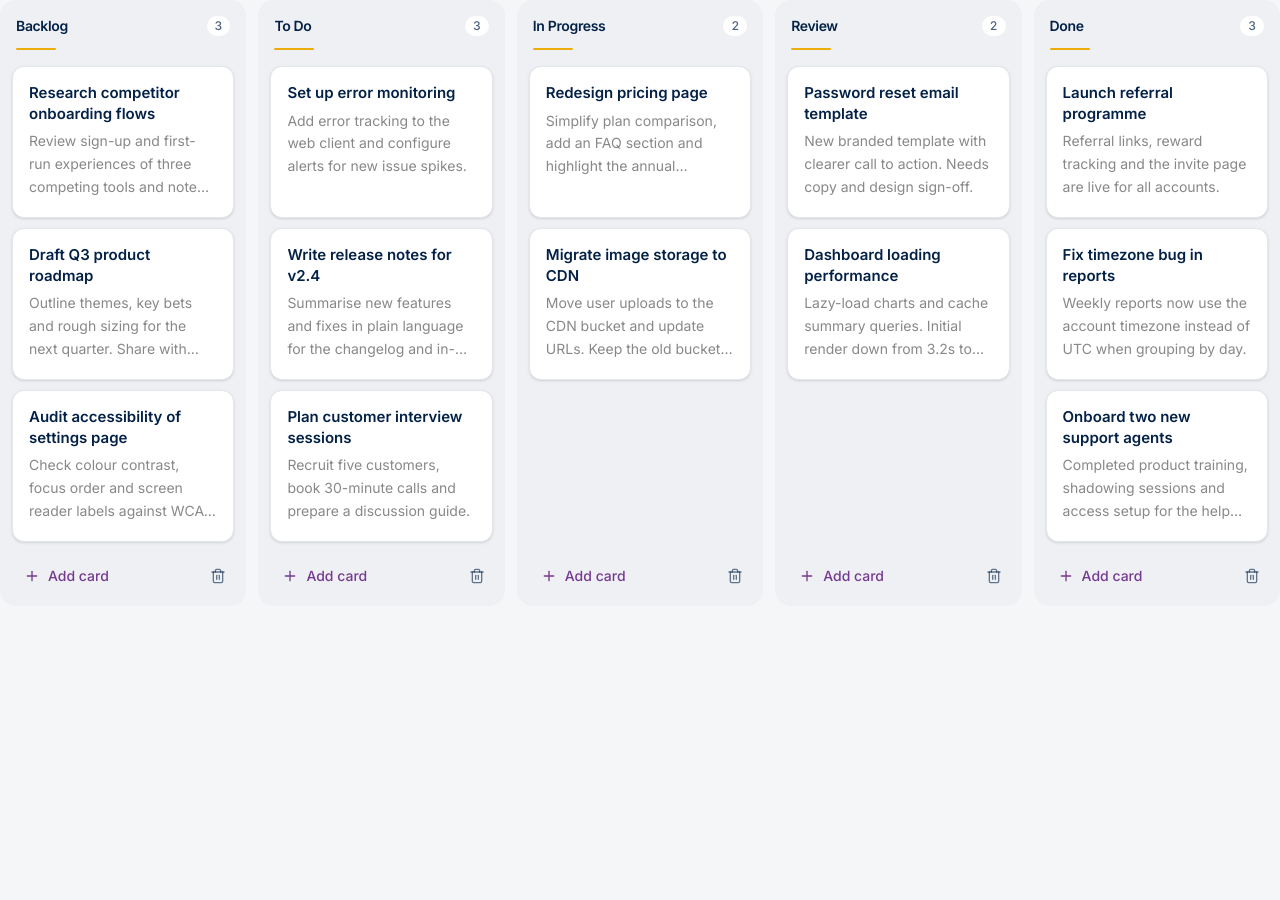
it: Column › adds a column from the board, up to five
Expected: the button "Add column" is not shown
Click the button named "Remove column: Review" at [994, 576], box [978,560,1010,592]
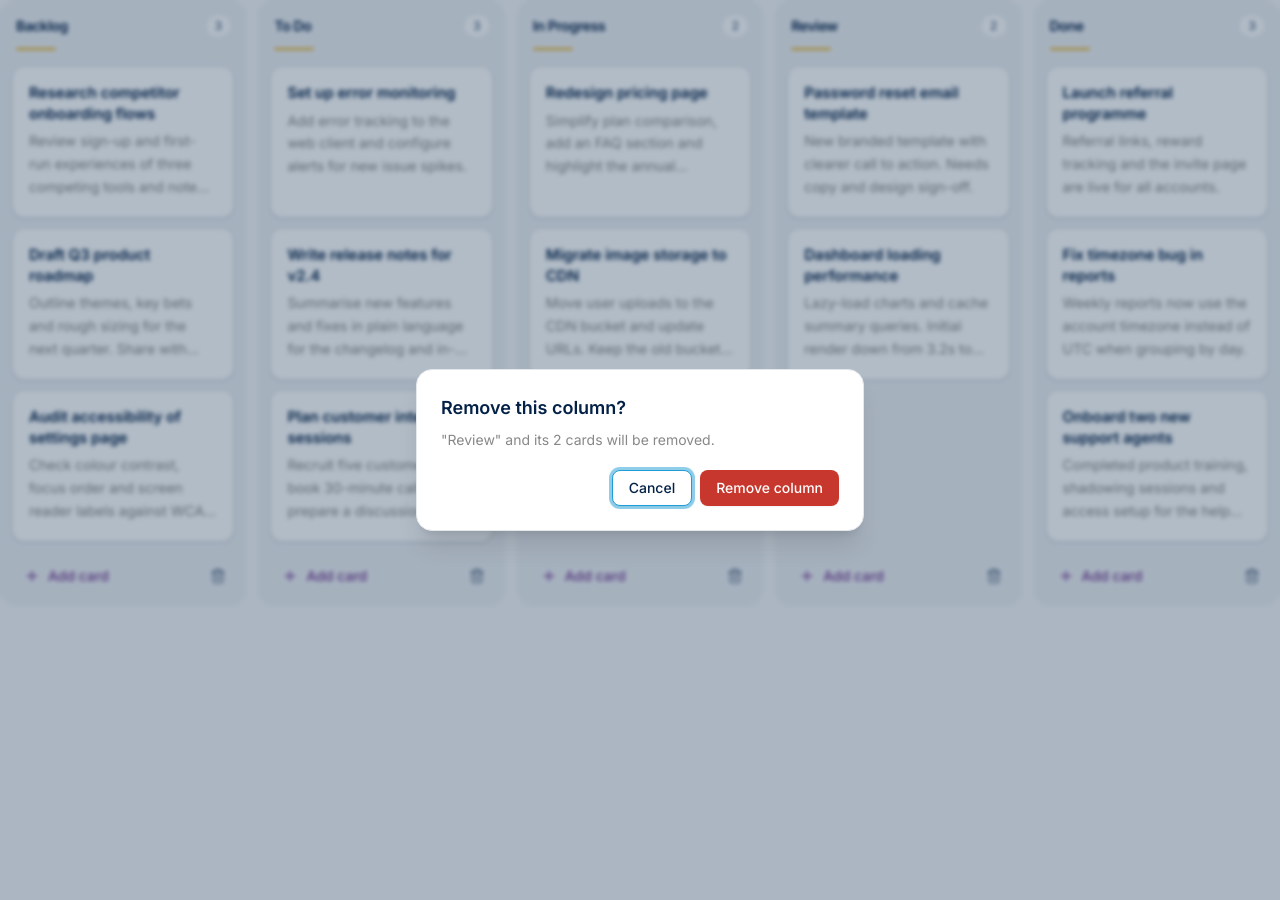
Click the button "Remove column" at [770, 488], box [700,470,839,506]
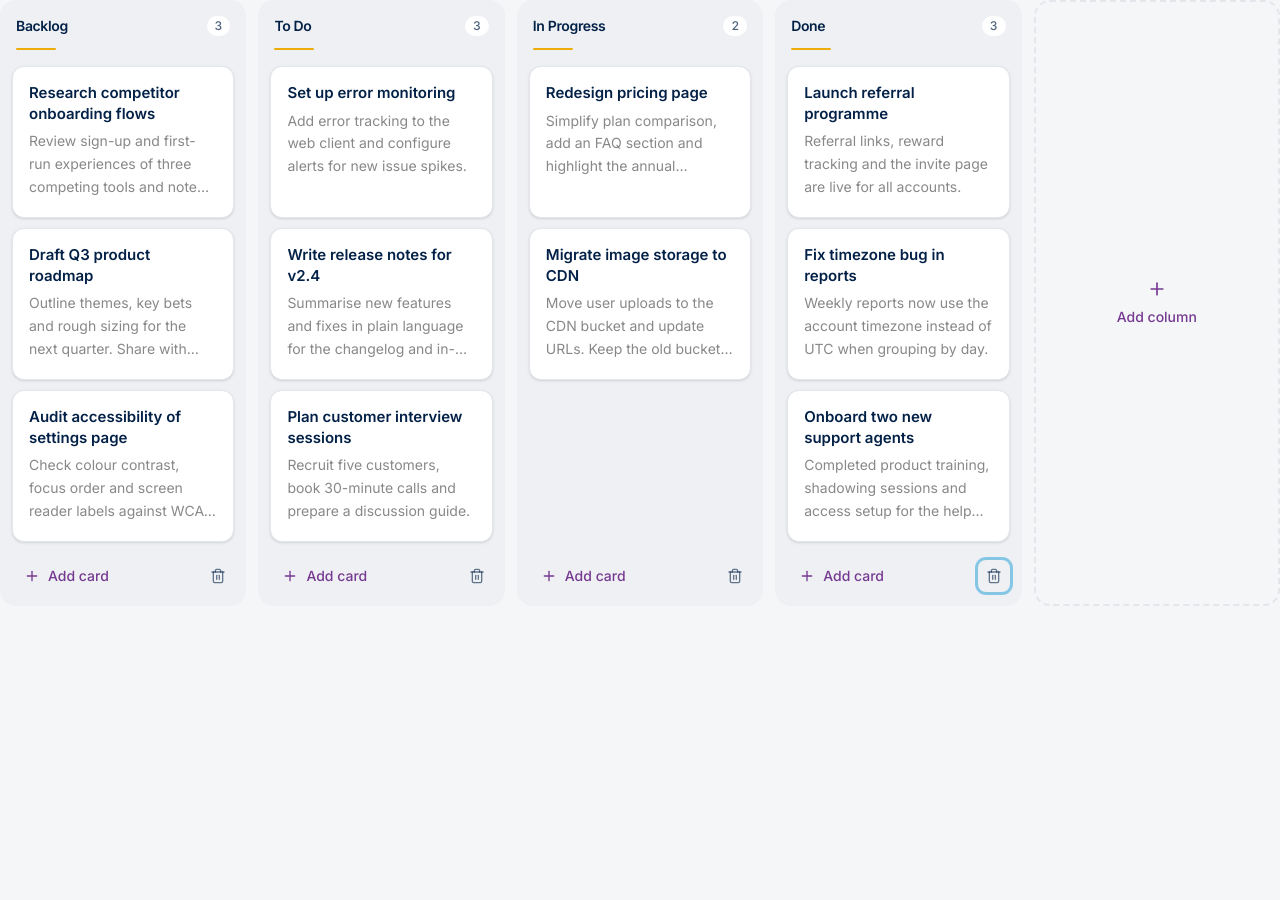
Click the button "Add column" at [1157, 303], box [1034,0,1279,606]
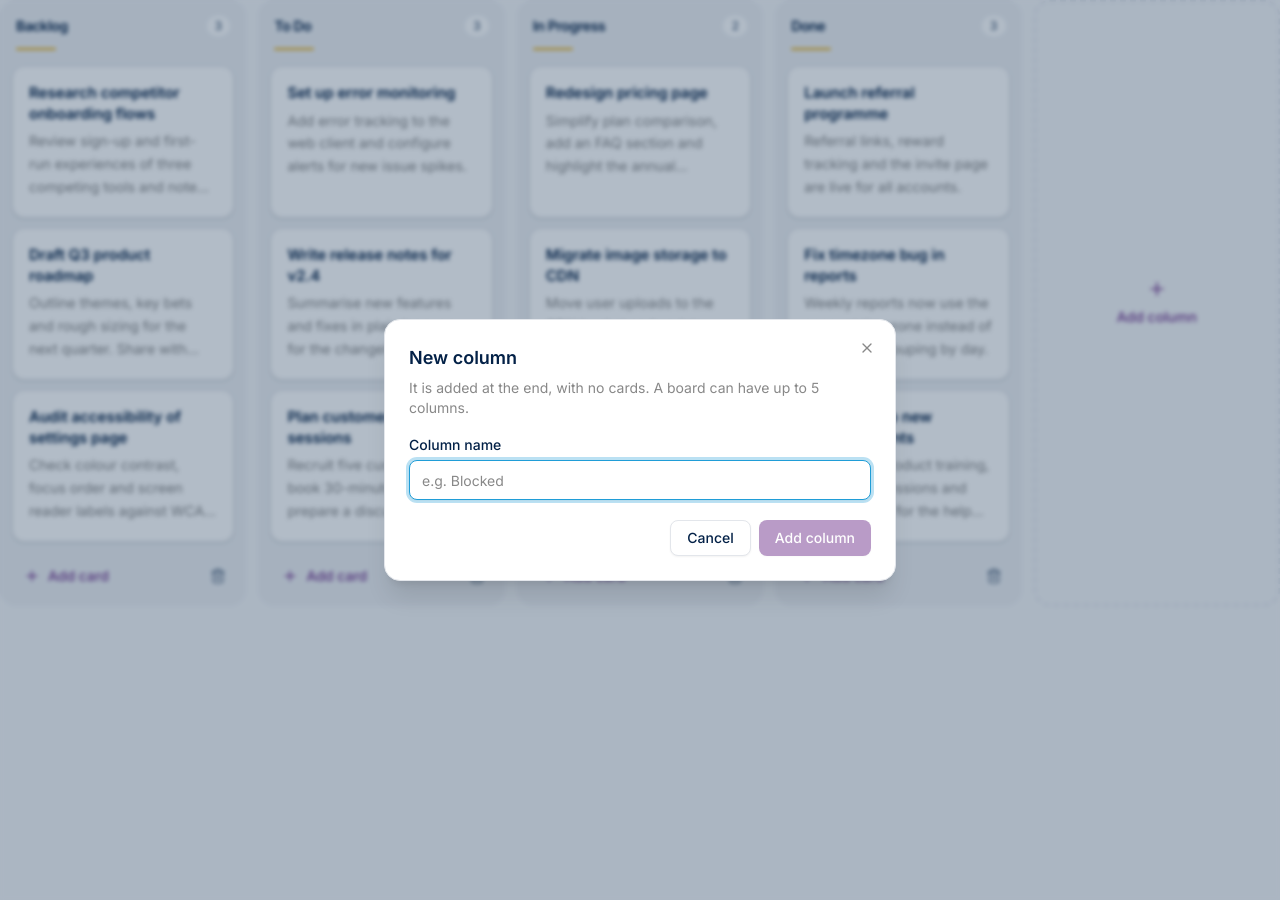
Type "Blocked" into the field labelled "Column name" at [640, 480], box [409,460,871,500]
Then press Enter
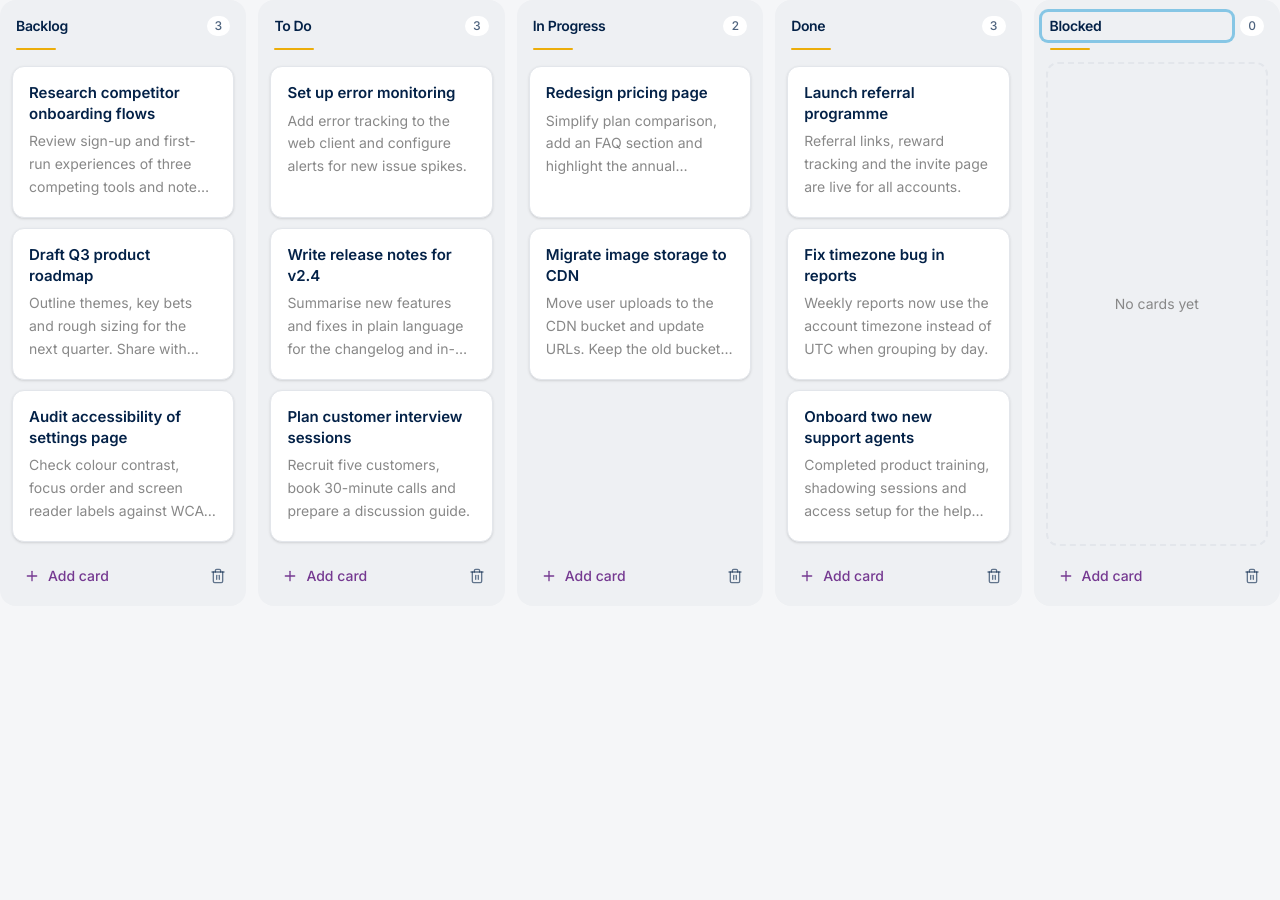
Expected: the button "Blocked" is shown, [1042,12,1232,40]
Expected: the element "Blocked" is shown, [1034,0,1279,606]
Expected: the button "Add column" is gone
